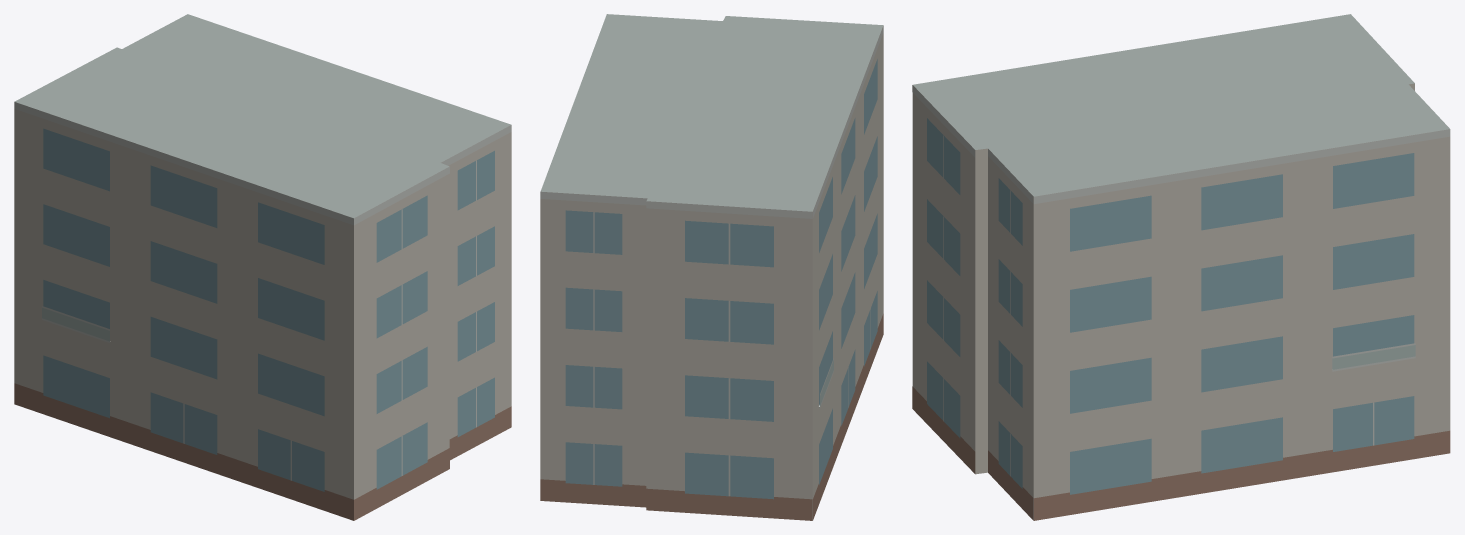
Rendered from survey-upis-32666473.glb.
3 views of the same model, side by side, from view 1: azimuth 30°, elevation 25°; view 2: azimuth 150°, elevation 25°; view 3: azimuth 270°, elevation 25° (orthographic). The views are drawn at different scales.
Visible parts, largest first — view 1: survey-upis-32666473.tmp; view 2: survey-upis-32666473.tmp; view 3: survey-upis-32666473.tmp.
Boxes of the visible parts, <box> form: survey-upis-32666473.tmp: <box>14,14,511,520</box>; survey-upis-32666473.tmp: <box>540,14,883,520</box>; survey-upis-32666473.tmp: <box>912,14,1450,520</box>.
Size of the model in its own units: 12.7 by 10.5 by 15.8.
